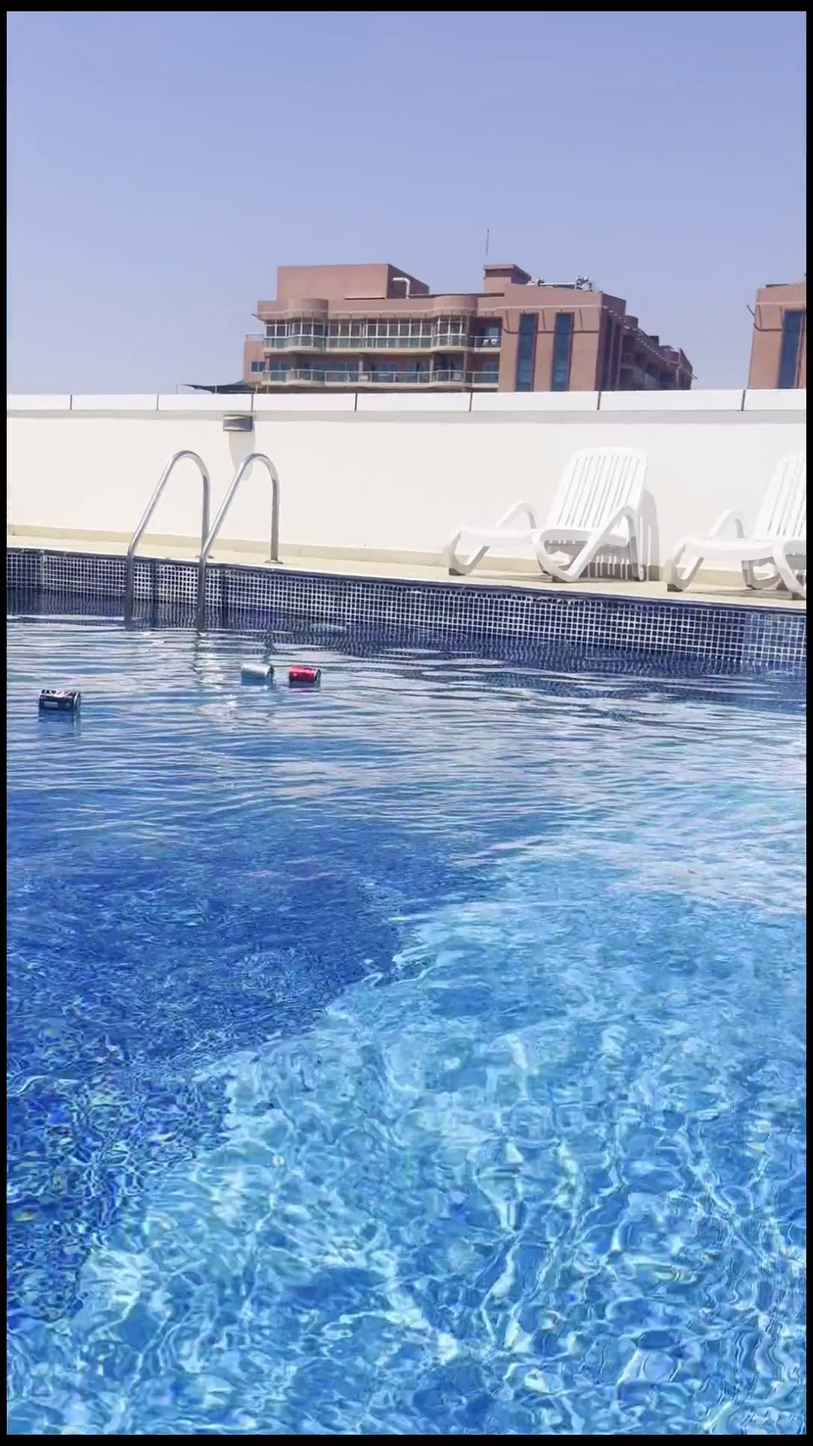debris: (33, 675, 84, 735), (235, 645, 277, 697), (285, 657, 321, 699)
